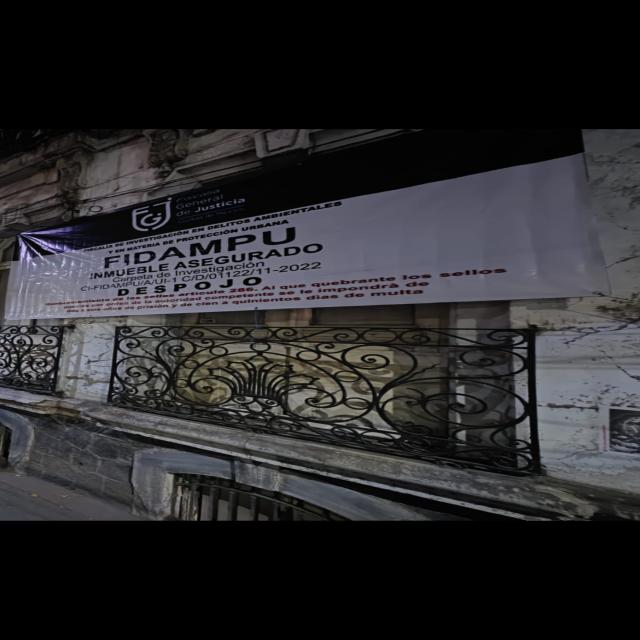stamps: (6, 130, 602, 319)
